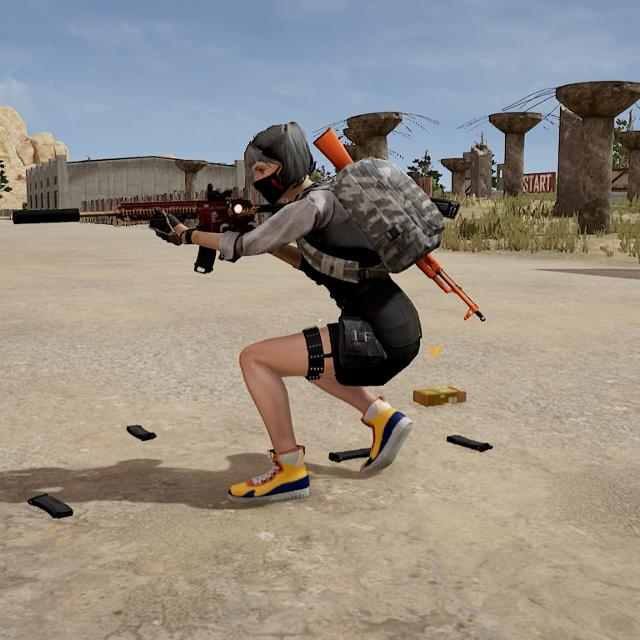head: (232, 117, 324, 214)
people: (208, 113, 453, 510)
